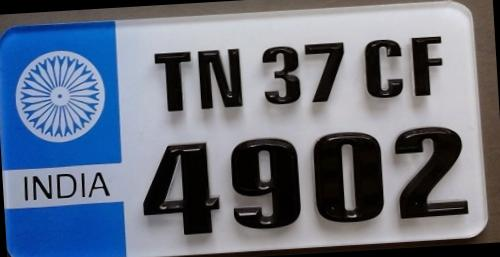plate: (19, 2, 492, 257)
